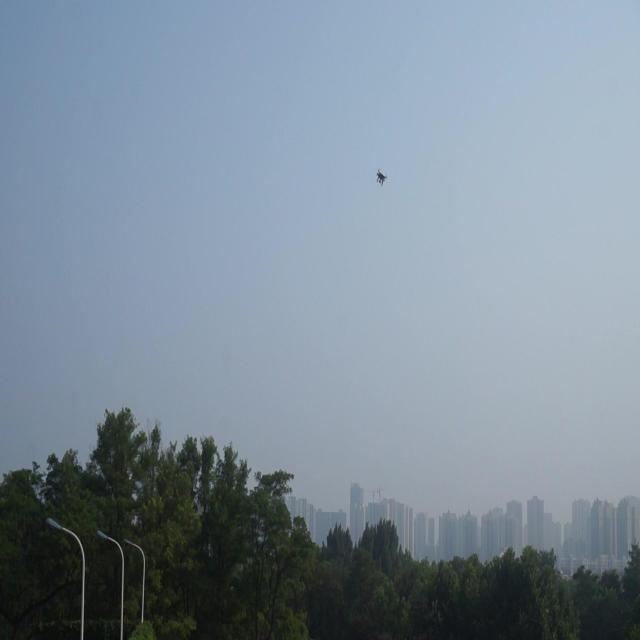drone: (375, 166, 387, 191)
